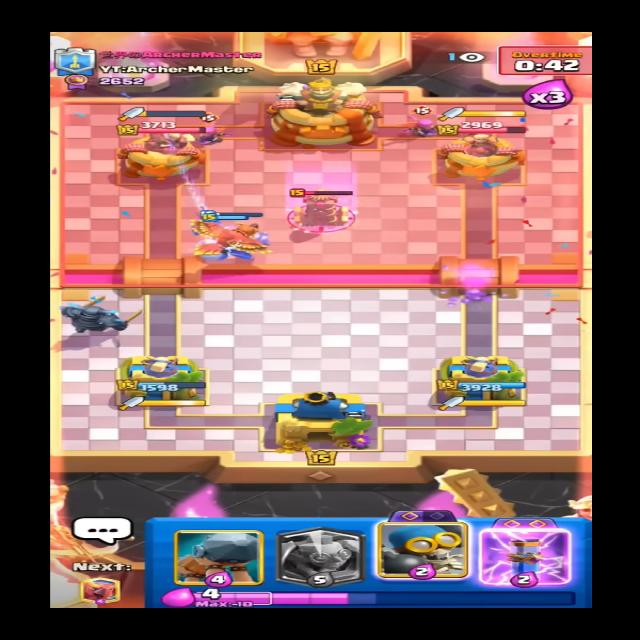evo-archers: (410, 106, 449, 136), (196, 110, 232, 142)
tesla: (290, 188, 358, 229)
